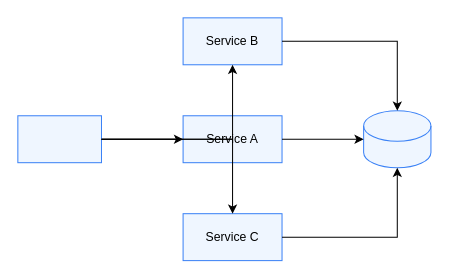
The diagram is 449 pixels wide and 278 high, and some of its shapes have lost their labels. The shapes that lost their labels are listed below. From the top down, each one's centre as x and y in pixels, then its label:
the point at 59,139: Gateway
the point at 397,139: Store
